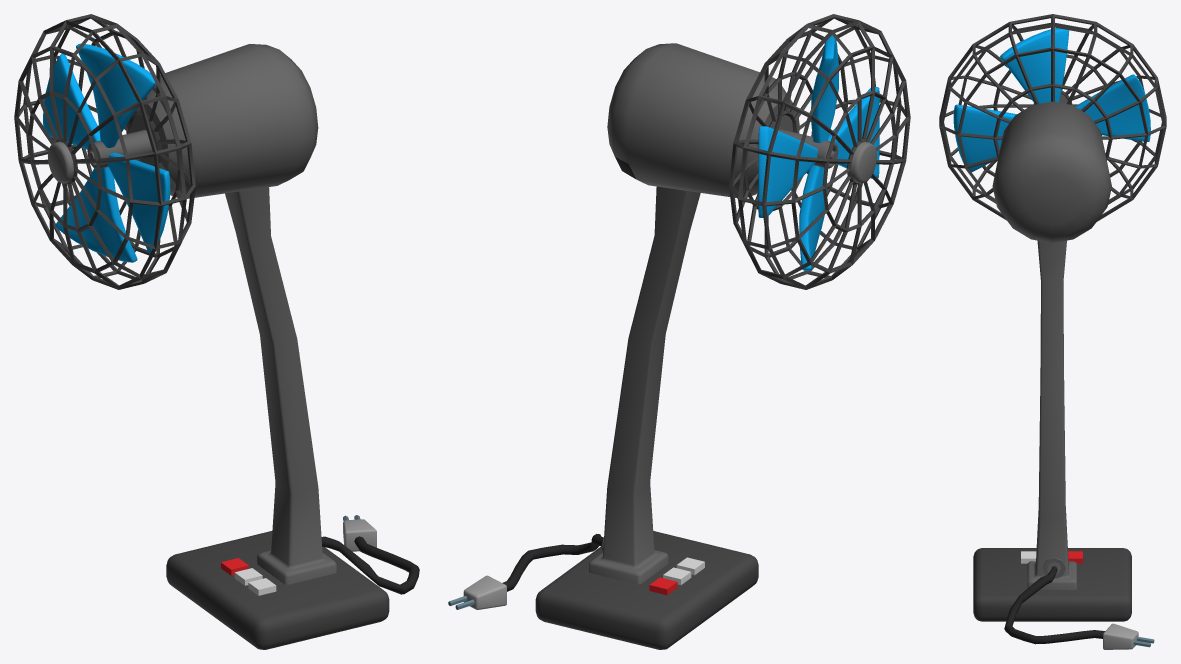
File: Fan03.fbx
3 renders of one model, left to right at view 1: azimuth 30°, elevation 25°; view 2: azimuth 150°, elevation 25°; view 3: azimuth 270°, elevation 25°, orthographic. The views are drawn at different scales.
Parts seen in each view (by area): view 1: Fan03, Fan03 Propeller; view 2: Fan03, Fan03 Propeller; view 3: Fan03, Fan03 Propeller.
Part boxes in pixels (x1,y1,x2,y2): Fan03: (14,14,419,649); Fan03 Propeller: (43,43,170,262); Fan03: (448,14,910,649); Fan03 Propeller: (758,35,879,270); Fan03: (939,14,1166,649); Fan03 Propeller: (953,28,1150,171).
Size of the model in its own units: 0.5149 by 0.3412 by 0.8452.
